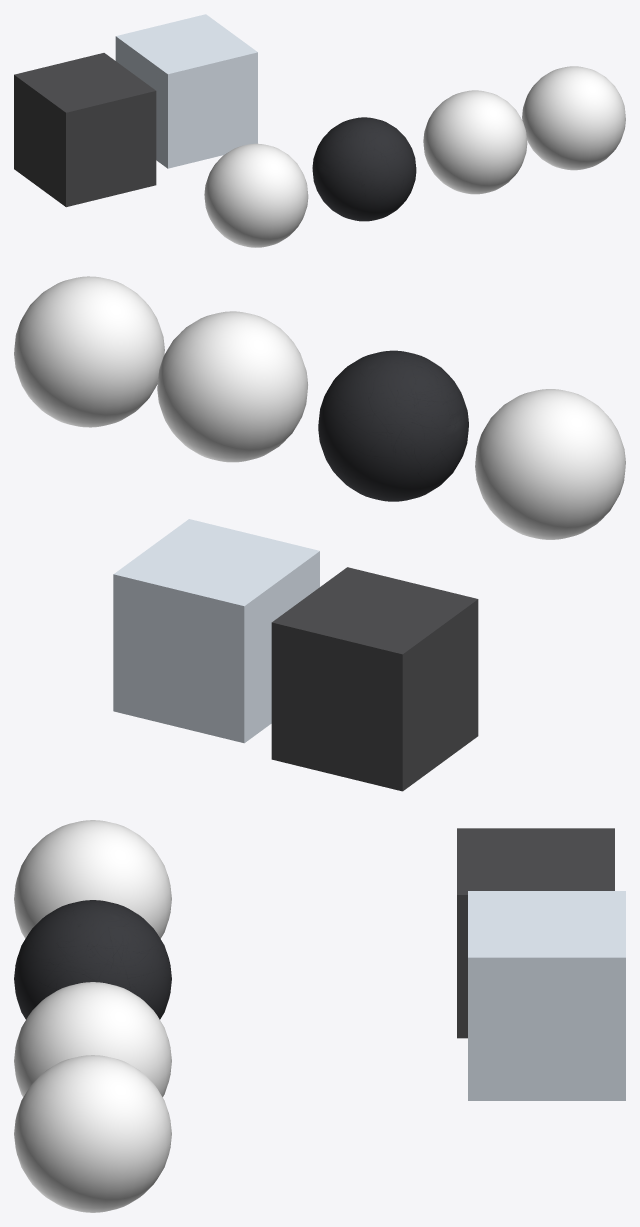
Rendered from Materials2.glb.
3 views of the same model, one above another, from view 1: azimuth 30°, elevation 25°; view 2: azimuth 150°, elevation 25°; view 3: azimuth 270°, elevation 25° (orthographic). The views are drawn at different scales.
Parts seen in each view (by area): view 1: Cube.001, Cube, Sphere.001, Sphere, Sphere.002, Sphere.003; view 2: Cube.001, Cube, Sphere.001, Sphere.002, Sphere, Sphere.003; view 3: Cube, Sphere.003, Sphere.001, Sphere, Cube.001, Sphere.002.
Boxes of the visible parts, x1=… form: Cube.001: x1=14, y1=53, x2=156, y2=207; Cube: x1=115, y1=14, x2=257, y2=168; Sphere.001: x1=312, y1=117, x2=416, y2=221; Sphere: x1=204, y1=143, x2=308, y2=247; Sphere.002: x1=423, y1=90, x2=527, y2=194; Sphere.003: x1=522, y1=66, x2=625, y2=170; Cube.001: x1=271, y1=567, x2=478, y2=791; Cube: x1=113, y1=519, x2=319, y2=743; Sphere.001: x1=318, y1=350, x2=468, y2=501; Sphere.002: x1=157, y1=311, x2=307, y2=462; Sphere: x1=475, y1=389, x2=625, y2=539; Sphere.003: x1=14, y1=276, x2=164, y2=427; Cube: x1=468, y1=891, x2=625, y2=1100; Sphere.003: x1=14, y1=1055, x2=171, y2=1212; Sphere.001: x1=14, y1=900, x2=171, y2=1019; Sphere: x1=14, y1=820, x2=171, y2=938; Cube.001: x1=457, y1=828, x2=614, y2=1038; Sphere.002: x1=14, y1=982, x2=171, y2=1097.
Bounding box in the file's own units: 9.6 × 2.74 × 7.75.
Materials: 6 (1 with a texture image).
